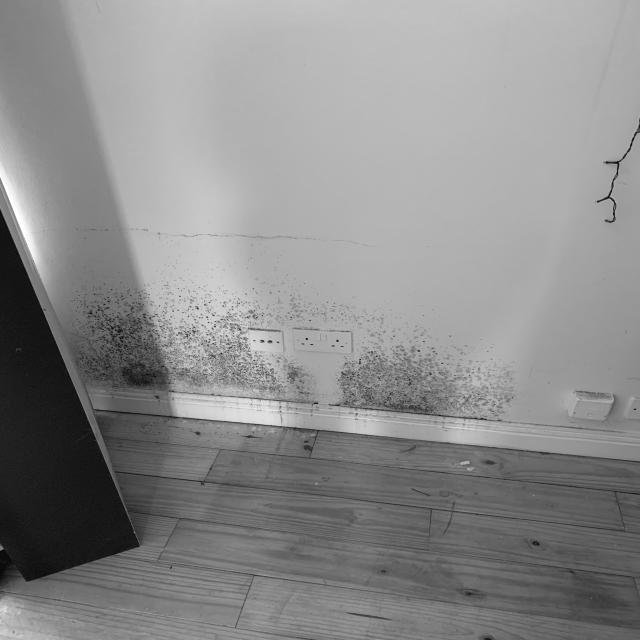stain marks: (65, 275, 519, 434)
